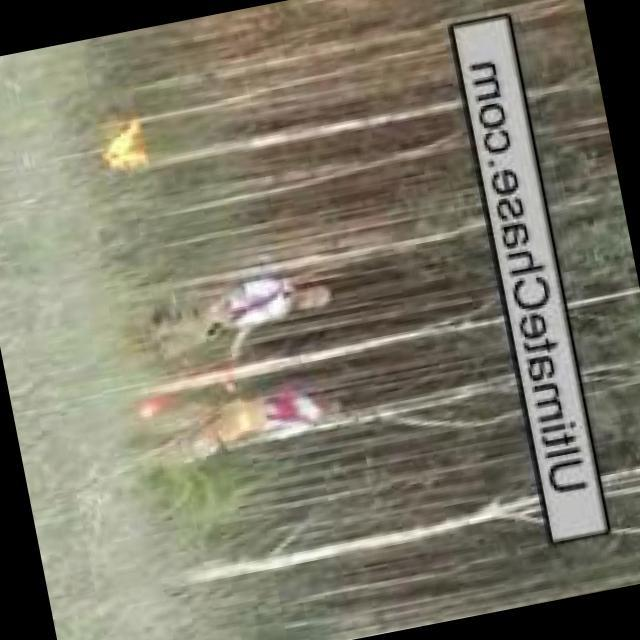Fire: (95, 115, 156, 178), (133, 394, 161, 420)
